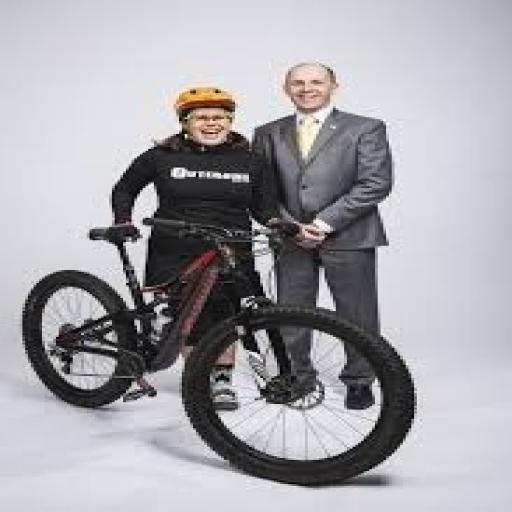cycling: (106, 84, 288, 411), (246, 60, 397, 412)
